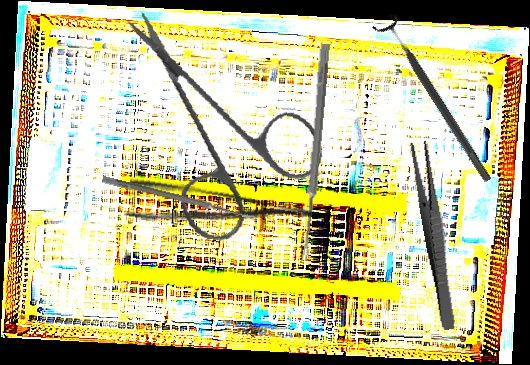Dressing Forceps: (123, 175, 315, 249), (408, 140, 462, 331)
Fixation Ring: (371, 11, 501, 189)
Iris Scissors: (96, 10, 341, 255)
Surgical Spoon: (101, 175, 259, 223), (300, 43, 330, 262)
